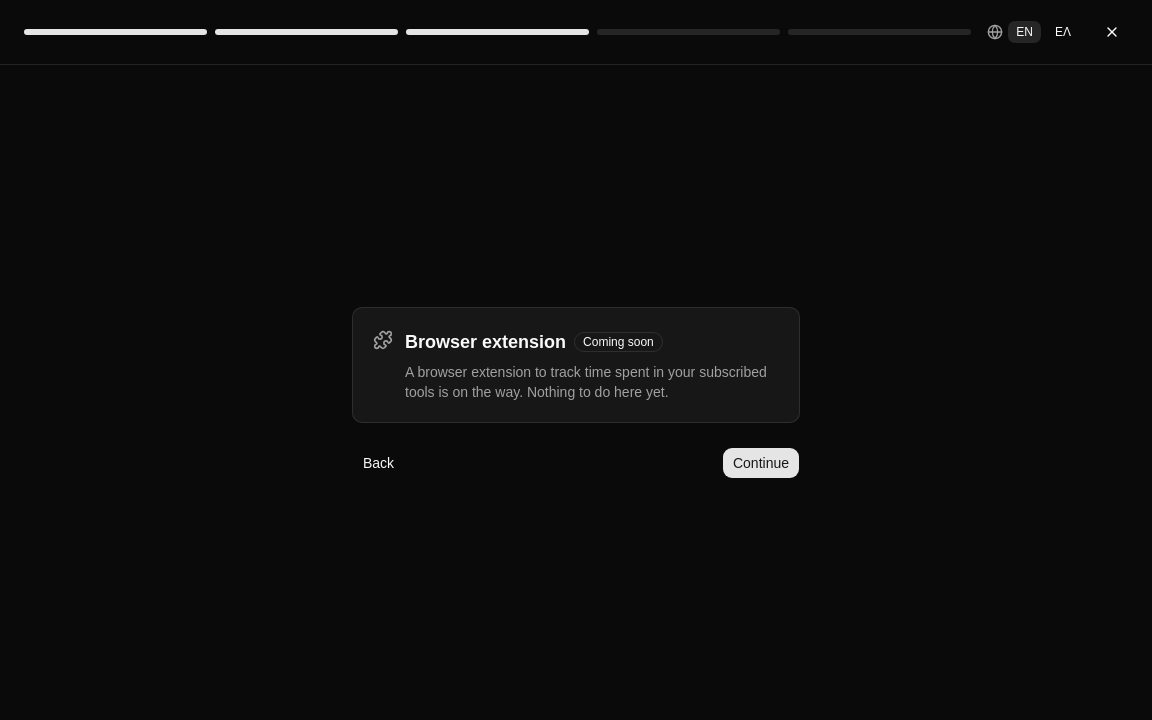
Scenario: OnboardingFlow › goes back past setup rather than into it
Check: the heading "Browser extension" is shown, box x1=405 y1=328 x2=566 y2=356
Click the button "Back": (379, 462) x1=352 y1=446 x2=405 y2=478
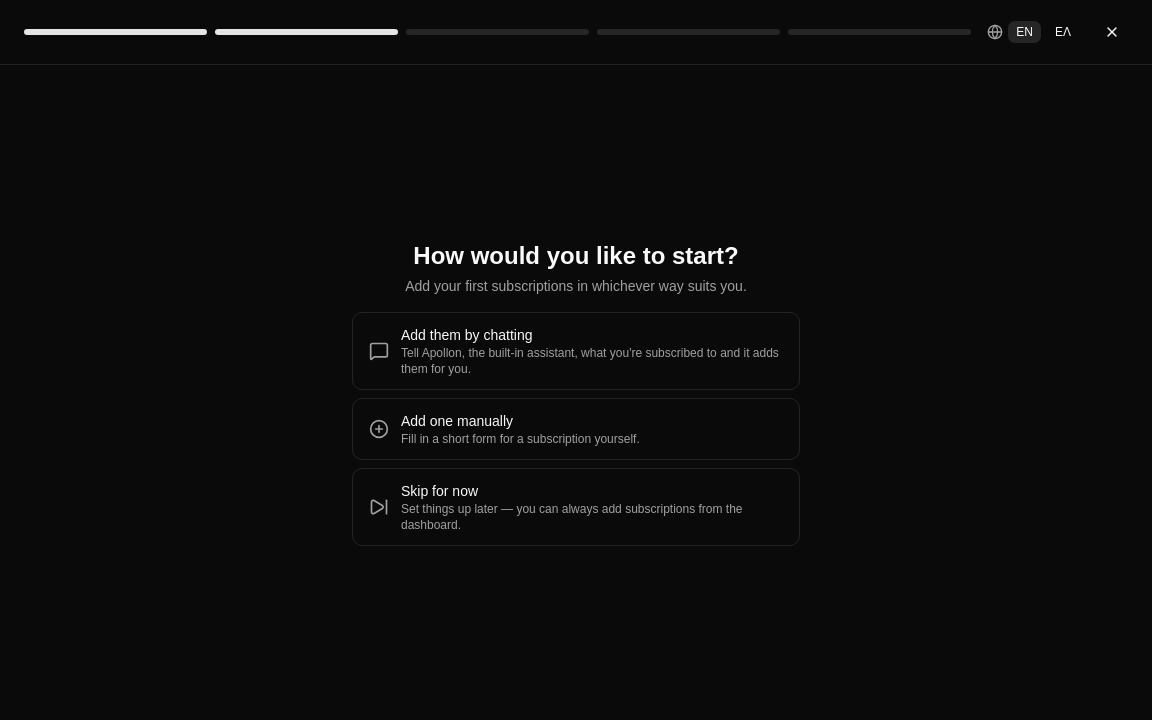
Check: the heading "How would you like to start?" is shown, box x1=413 y1=242 x2=739 y2=268
